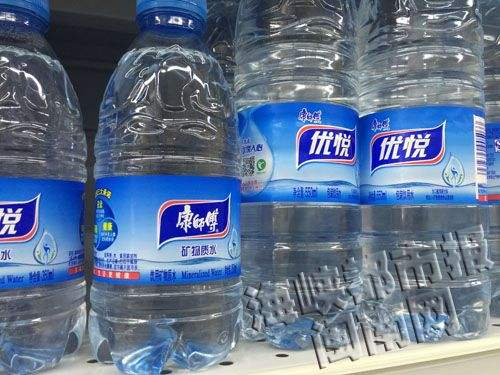amwater: (96, 7, 250, 369), (235, 2, 368, 361), (364, 1, 495, 341)
